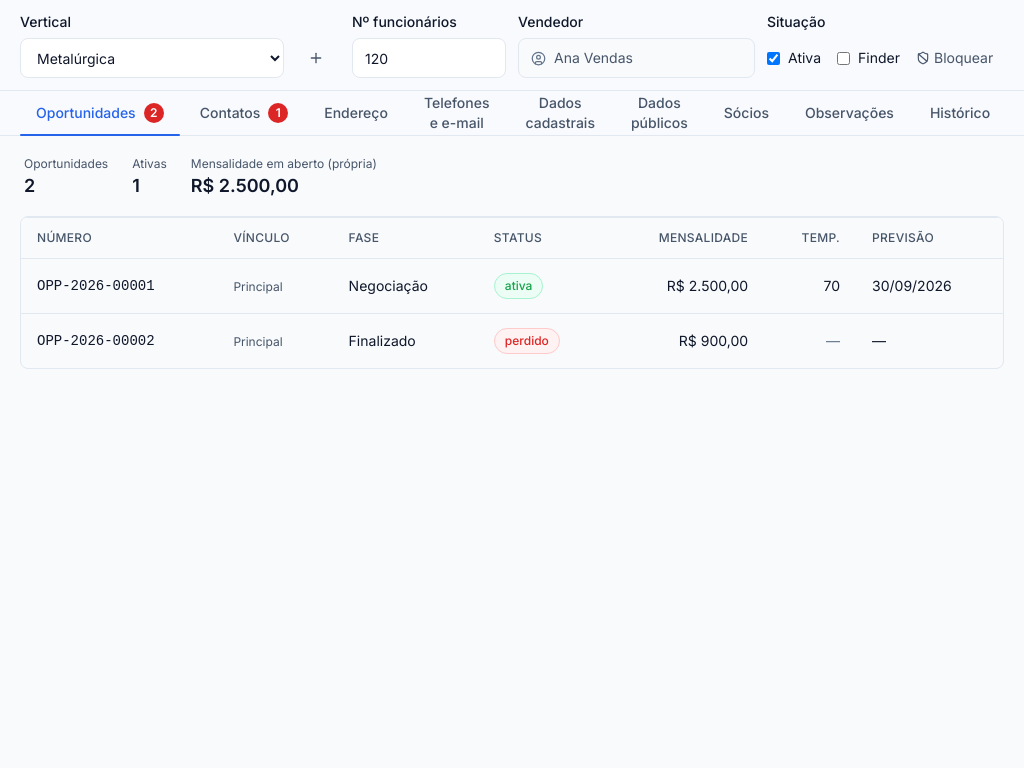
it: ContaDetalhe — estrutura › a identificação continua editável, na aba Dados cadastrais
Click the tab with test id "tab-cadastrais" at (560, 113), box left=510, top=91, right=611, bottom=135
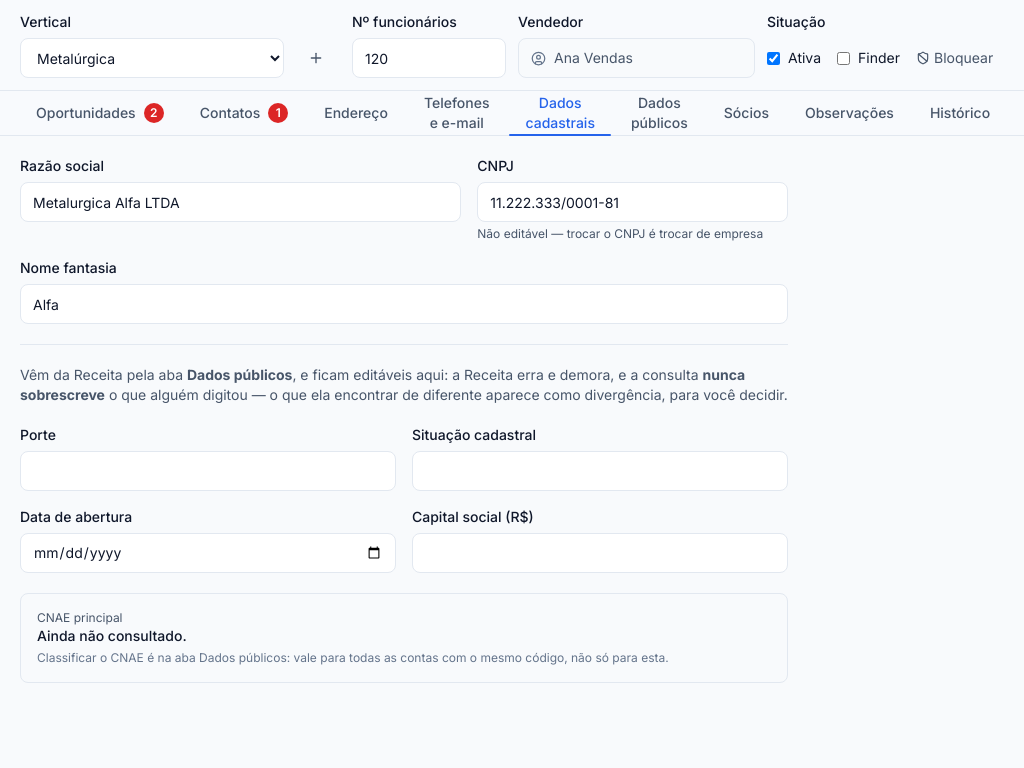
Expected: the field labelled "Razão social" is shown, left=20, top=182, right=461, bottom=222
Expected: the field labelled "Nome fantasia" is shown, left=20, top=284, right=788, bottom=324
